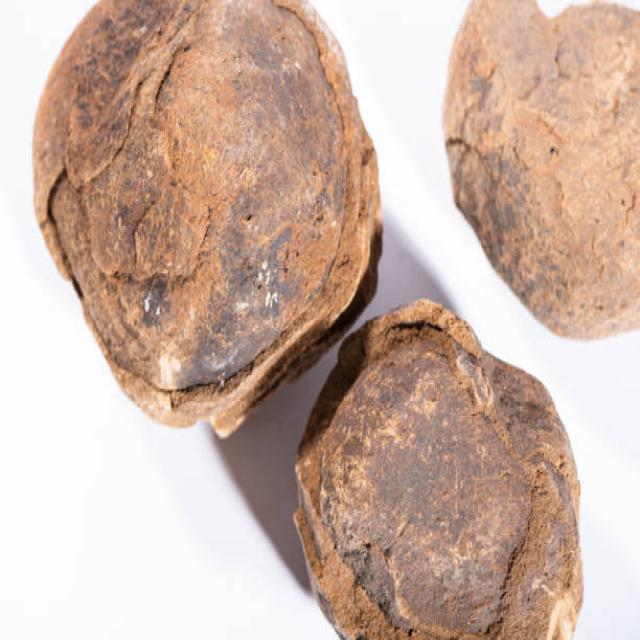Sedimentary: (20, 6, 372, 388), (304, 310, 588, 640), (442, 2, 640, 315)
